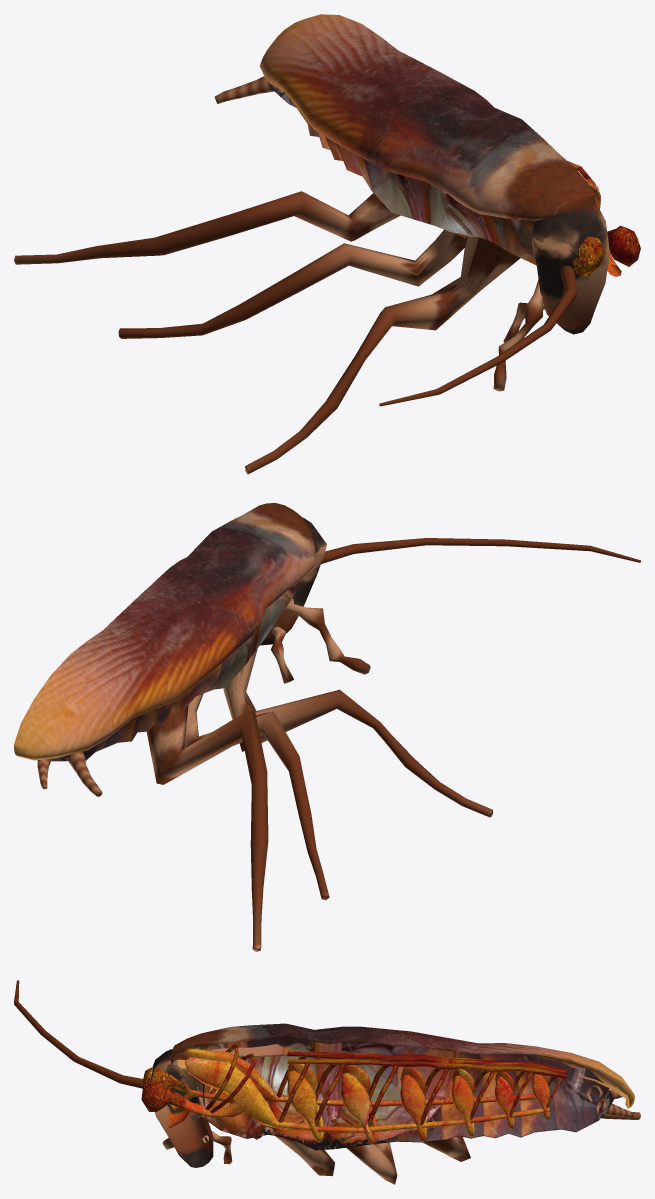
File: cocrotch.fbx
The picture shows the model from 3 angles, top to bottom: view 1: azimuth 30°, elevation 25°; view 2: azimuth 150°, elevation 25°; view 3: azimuth 270°, elevation 25°; orthographic projection. The views are drawn at different scales.
Visible parts, largest first — view 1: polySurface10, polySurface18, polySurface16, polySurface17, polySurface12, polySurface11, polySurface13, pCylinder5, polySurface19, pCylinder22, polySurface14; view 2: polySurface10, polySurface18, polySurface16, polySurface12, polySurface17, polySurface13, polySurface11, polySurface19; view 3: polySurface12, polySurface10, pCylinder5, polySurface11, pCylinder22, pCylinder11, pCylinder30, pCylinder12, pCylinder8, polySurface17, pCylinder13, polySurface13 (+12 smaller).
Boxes of the visible parts, left/top/right/bottom form: polySurface10: left=260, top=14, right=595, bottom=220; polySurface18: left=14, top=191, right=400, bottom=264; polySurface16: left=245, top=236, right=520, bottom=474; polySurface17: left=118, top=229, right=465, bottom=338; polySurface12: left=268, top=81, right=536, bottom=265; polySurface11: left=532, top=203, right=609, bottom=334; polySurface13: left=379, top=265, right=576, bottom=406; pCylinder5: left=584, top=178, right=640, bottom=276; polySurface19: left=493, top=279, right=542, bottom=391; pCylinder22: left=572, top=236, right=604, bottom=276; polySurface14: left=215, top=76, right=274, bottom=103; polySurface10: left=14, top=503, right=315, bottom=760; polySurface18: left=146, top=704, right=268, bottom=951; polySurface16: left=223, top=648, right=492, bottom=817; polySurface12: left=51, top=581, right=299, bottom=761; polySurface17: left=184, top=693, right=329, bottom=899; polySurface13: left=321, top=538, right=640, bottom=563; polySurface11: left=260, top=517, right=326, bottom=645; polySurface19: left=285, top=598, right=370, bottom=674; polySurface12: left=187, top=1037, right=614, bottom=1150; polySurface10: left=171, top=1023, right=634, bottom=1108; pCylinder5: left=141, top=1057, right=549, bottom=1132; polySurface11: left=150, top=1049, right=213, bottom=1167; pCylinder22: left=142, top=1048, right=549, bottom=1110; pCylinder11: left=287, top=1050, right=566, bottom=1073; pCylinder30: left=287, top=1059, right=566, bottom=1078; pCylinder12: left=341, top=1065, right=377, bottom=1144; pCylinder8: left=287, top=1064, right=323, bottom=1142; polySurface17: left=328, top=1117, right=397, bottom=1184; pCylinder13: left=400, top=1067, right=426, bottom=1141; polySurface13: left=14, top=980, right=173, bottom=1090.
Bounding box in the file's own units: 148 × 107 × 292.
